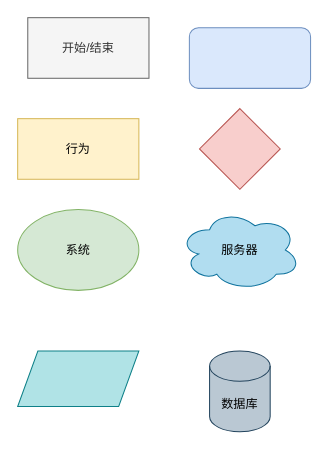
This 328x449 diagram has some shape labels left out. Here are the shapes that lost their labels. From the top down, the box of each, then its label:
(188, 27, 311, 88): 实体
(198, 108, 280, 189): 判断
(17, 350, 139, 407): 数据
